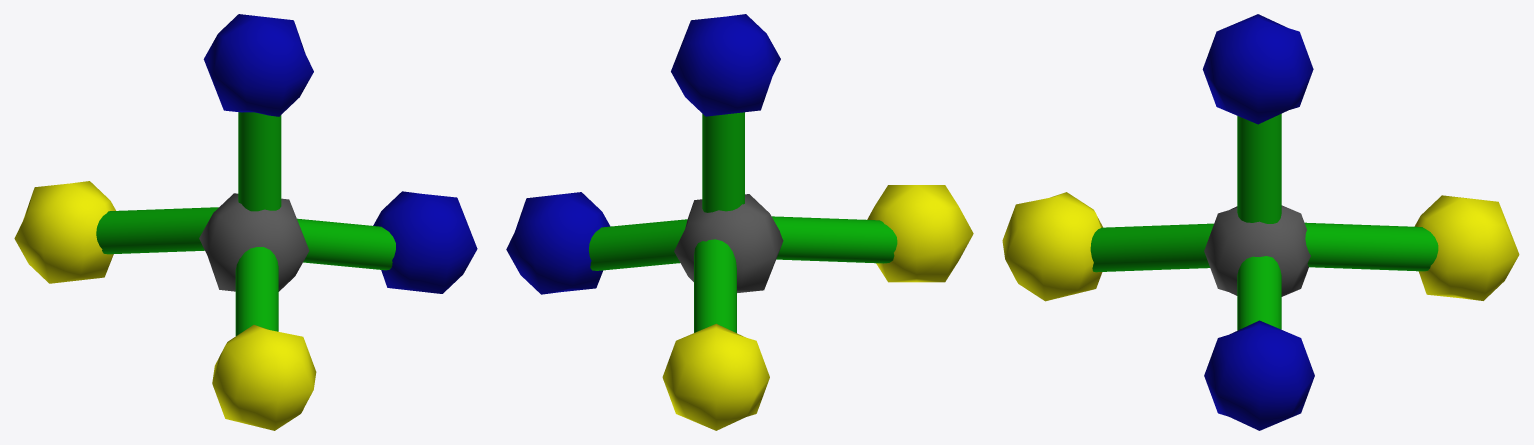
File: Dichloromethane.fbx
The picture shows the model from 3 angles, left to right: view 1: azimuth 30°, elevation 25°; view 2: azimuth 150°, elevation 25°; view 3: azimuth 270°, elevation 25°; orthographic projection. The views are drawn at different scales.
Parts seen in each view (by area): view 1: pasted__polySurface14; view 2: pasted__polySurface14; view 3: pasted__polySurface14.
Part boxes in pixels (x1,y1,x2,y2): pasted__polySurface14: [14, 14, 477, 430]; pasted__polySurface14: [506, 14, 973, 430]; pasted__polySurface14: [1002, 14, 1519, 430].
Size of the model in its own units: 18.68 by 16.15 by 23.31.
